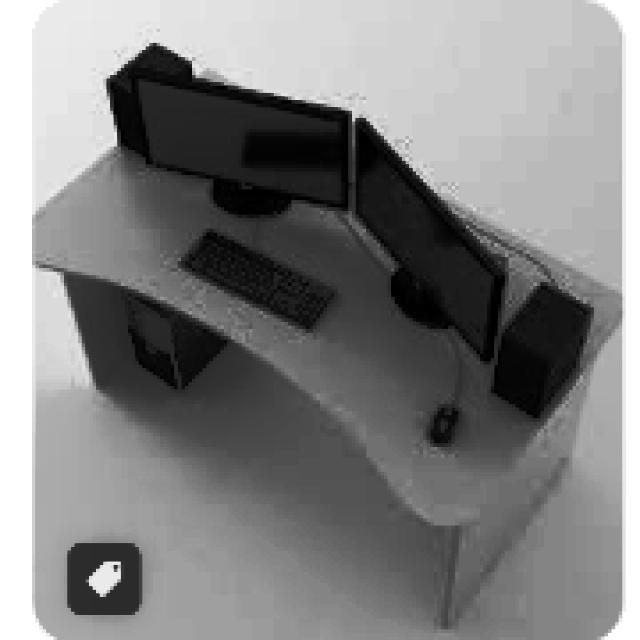table: (62, 94, 581, 606)
